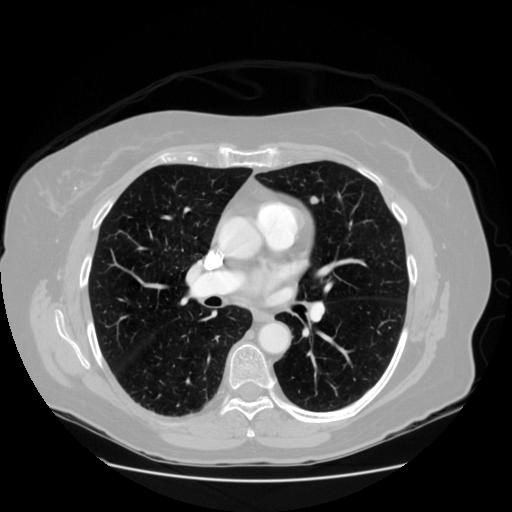nodule: (307, 193, 321, 207)
